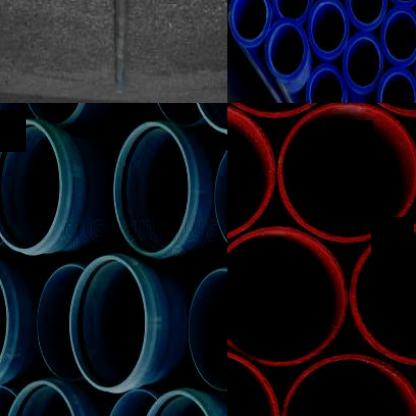pipe: (276, 103, 416, 243), (227, 225, 347, 367), (69, 254, 148, 391), (112, 121, 191, 255), (348, 221, 416, 368), (280, 353, 416, 416), (0, 119, 62, 252), (228, 103, 276, 243), (36, 264, 88, 381), (188, 267, 228, 391), (227, 349, 281, 416), (340, 29, 384, 95), (262, 22, 312, 80), (2, 380, 80, 416), (307, 0, 351, 60), (379, 2, 416, 67), (138, 388, 218, 416), (228, 0, 274, 46), (98, 386, 163, 416), (227, 103, 346, 119), (303, 62, 349, 103), (377, 64, 416, 103), (20, 103, 88, 125), (216, 136, 228, 258), (152, 103, 204, 127), (348, 102, 416, 120), (269, 0, 315, 22), (349, 0, 382, 27), (412, 42, 416, 101)
